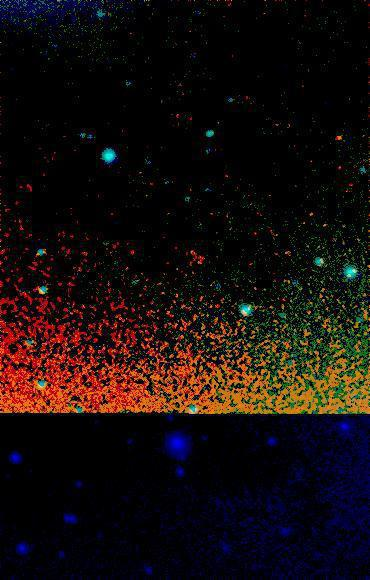star: (325, 125, 355, 155)
